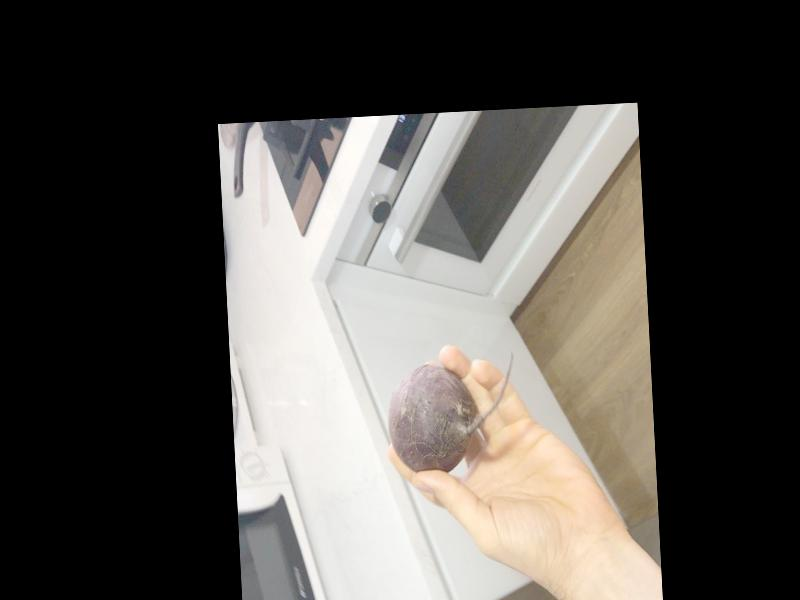Beet: (384, 349, 519, 475)
